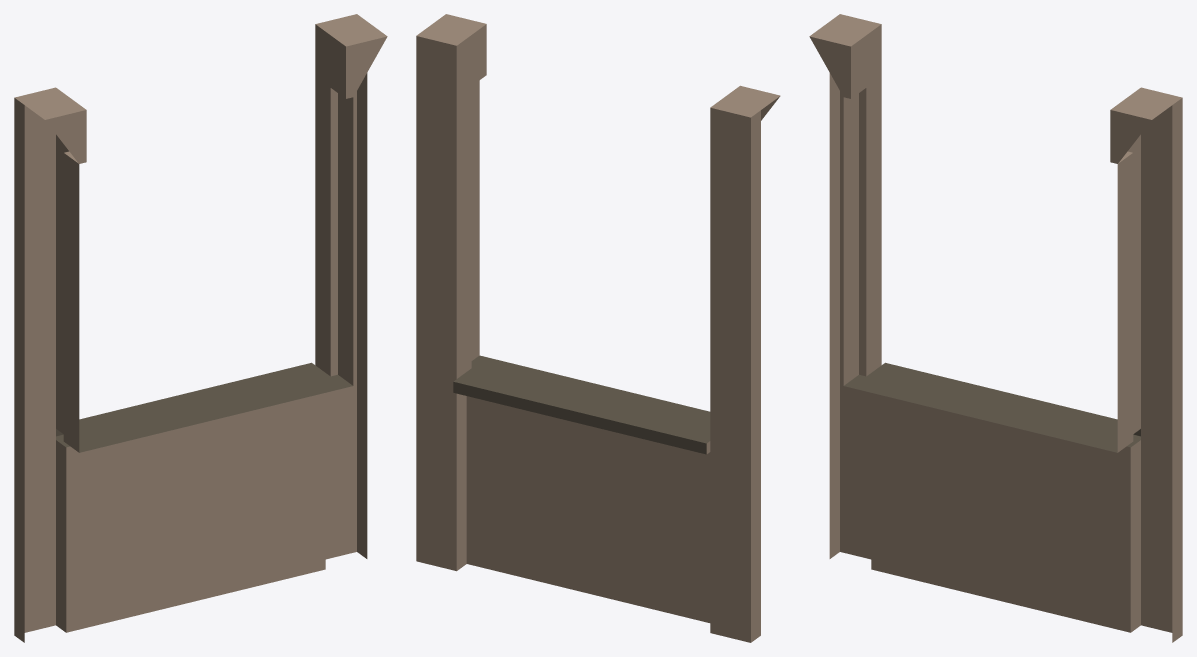
Rendered from Pillar_window.fbx.
The picture shows the model from 3 angles, left to right: view 1: azimuth 30°, elevation 25°; view 2: azimuth 150°, elevation 25°; view 3: azimuth 330°, elevation 25°; orthographic projection. The views are drawn at different scales.
Visible parts, largest first — view 1: Order_window.001; view 2: Order_window.001; view 3: Order_window.001.
Boxes of the visible parts, x1,y1,x2,y2 form: Order_window.001: (14,14,387,642); Order_window.001: (416,14,780,642); Order_window.001: (809,14,1182,642).
Bounding box in the file's own units: 200 × 300 × 34.64.
